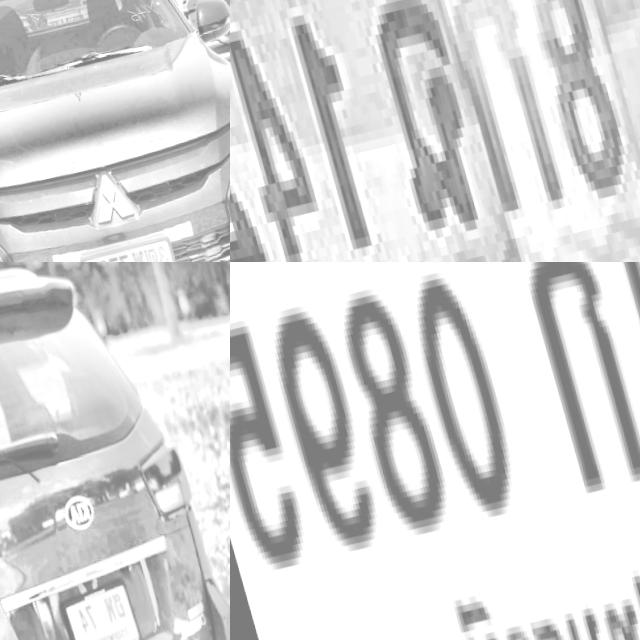license-plate: (230, 262, 640, 640), (230, 0, 640, 262), (50, 575, 141, 640), (69, 228, 177, 262)
